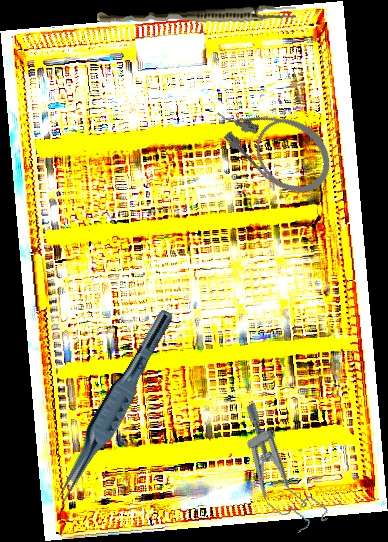Cannula: (203, 77, 345, 209)
Speculum: (220, 397, 332, 542)
Tissue Forceps: (50, 302, 176, 511), (96, 1, 297, 31)
